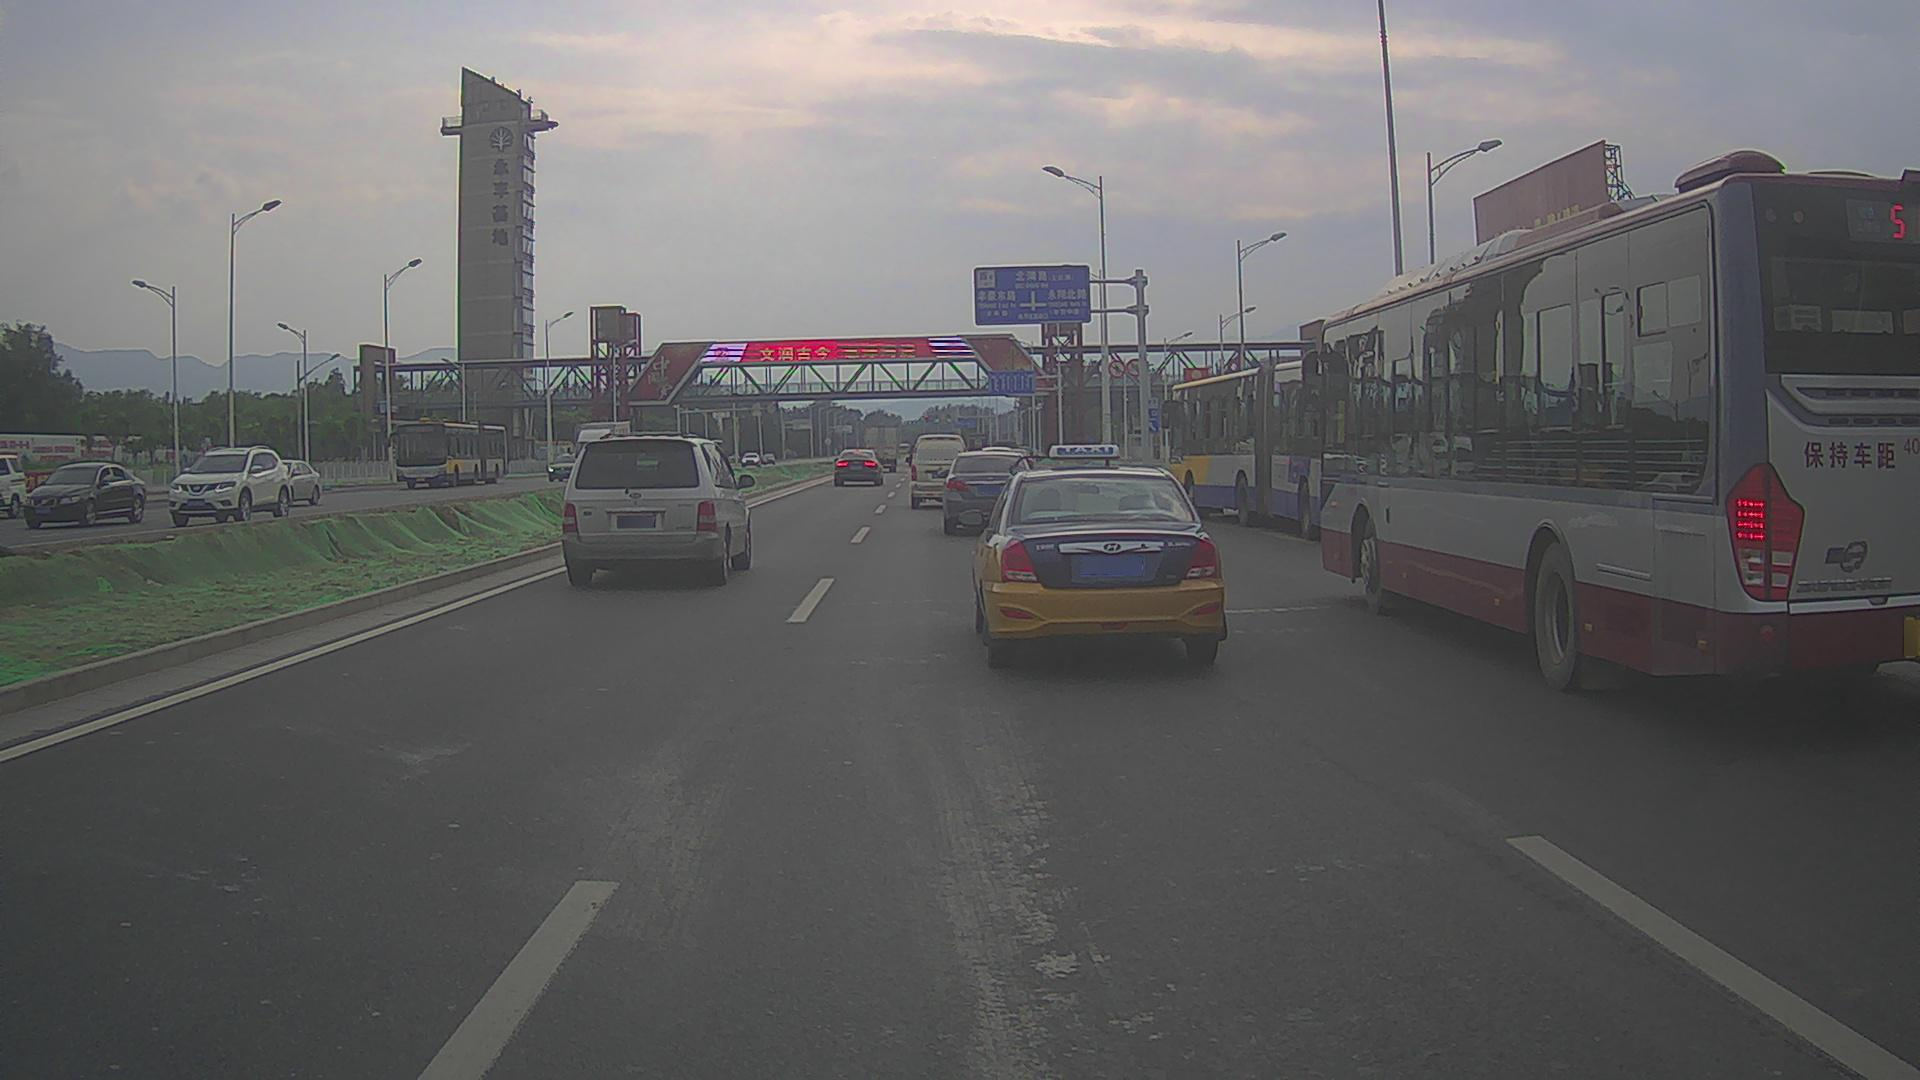bus: (1300, 150, 1917, 687), (1160, 357, 1472, 541), (386, 415, 508, 488)
car: (957, 444, 1226, 669), (167, 444, 291, 527), (936, 450, 1031, 535), (22, 463, 146, 527), (255, 459, 323, 506), (833, 448, 884, 485), (547, 451, 588, 483), (740, 452, 761, 467)
ignore: (0, 454, 26, 520), (898, 440, 914, 456), (760, 454, 775, 464)
truck: (574, 421, 632, 479), (862, 425, 898, 472)
van: (562, 431, 756, 587), (905, 434, 972, 509)
